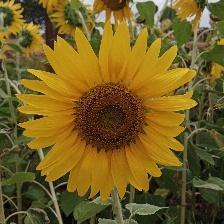sunflower: (18, 19, 198, 202), (58, 2, 97, 36), (95, 1, 136, 28), (1, 1, 26, 38), (16, 26, 46, 54), (173, 1, 207, 25)
